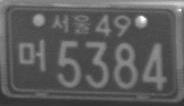3: (83, 39, 110, 89)
4: (140, 41, 168, 92), (93, 12, 113, 38)
5: (54, 39, 83, 89)
8: (112, 41, 140, 90)
9: (113, 13, 133, 38)
머: (17, 37, 47, 73)
서울_O: (50, 12, 92, 36)
